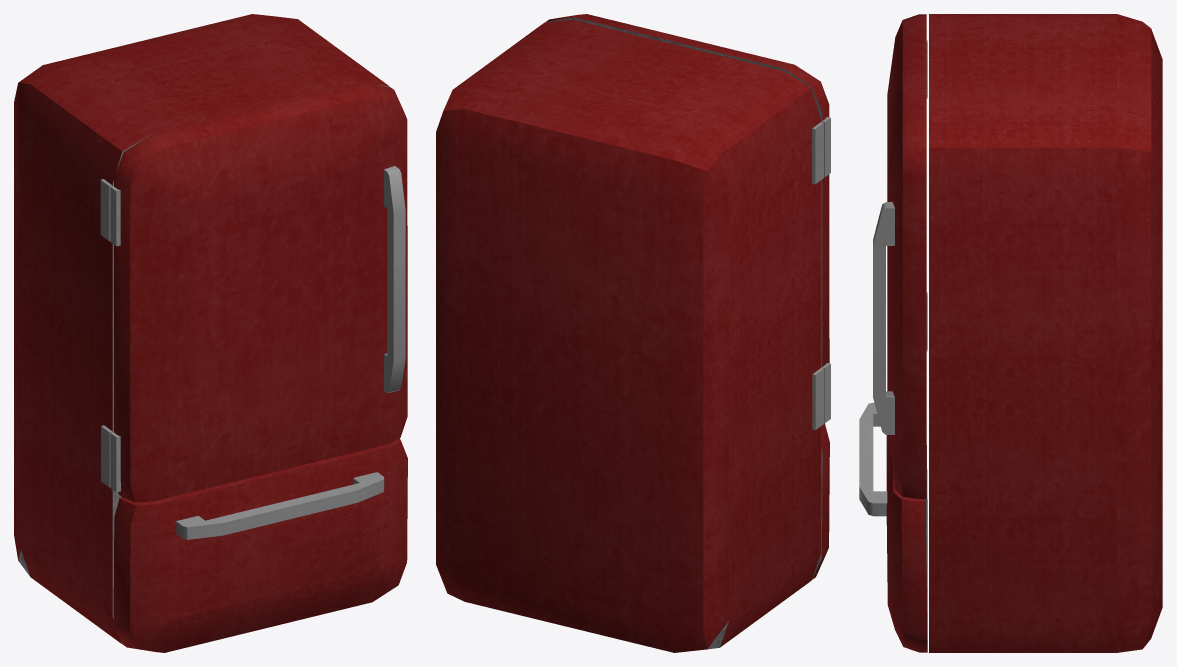
The model's file is bob_fridge.FBX.
The picture shows the model from 3 angles, left to right: view 1: azimuth 30°, elevation 25°; view 2: azimuth 150°, elevation 25°; view 3: azimuth 270°, elevation 25°; orthographic projection. The views are drawn at different scales.
Visible parts, largest first — view 1: refridgerator; view 2: refridgerator; view 3: refridgerator.
Part boxes in pixels (box(x1,y1,x2,y2)): refridgerator: box(14, 14, 407, 652); refridgerator: box(436, 14, 830, 652); refridgerator: box(859, 14, 1162, 652).
Size of the model in its own units: 70.07 by 119 by 61.98.
Materials: 1 (1 with a texture image).
